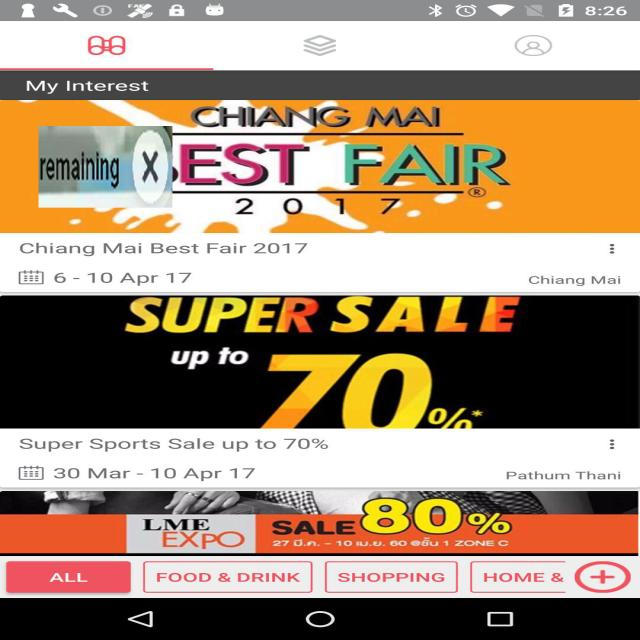misdirection: (39, 126, 172, 208)
